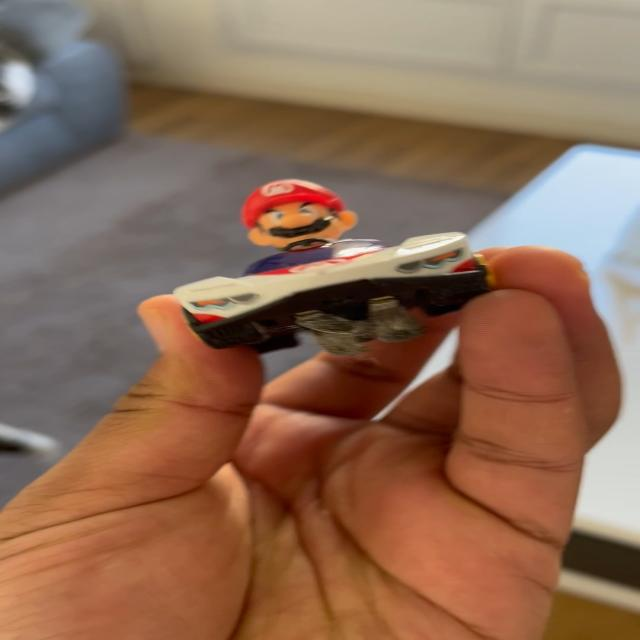mario: (147, 175, 516, 370)
